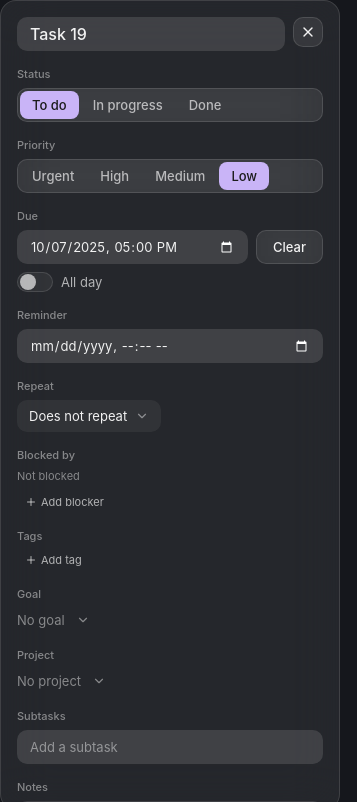
Test: TaskDetailPanel: due date › ignores a half-typed (empty) value and puts the saved one back
expect the field named "Title" is shown: met, box [17,17,285,51]
Clear the field named "Due": (132, 247) [17,230,248,264]
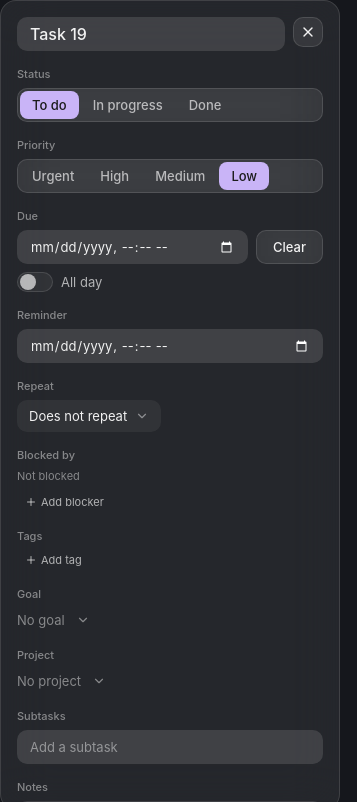
Leave the field named "Due", box [17,230,248,264]
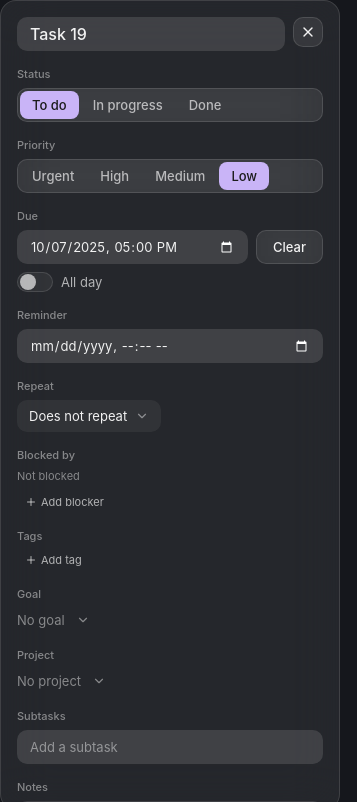
expect the field named "Due" holds "2025-10-07T17:00": met, box [17,230,248,264]
